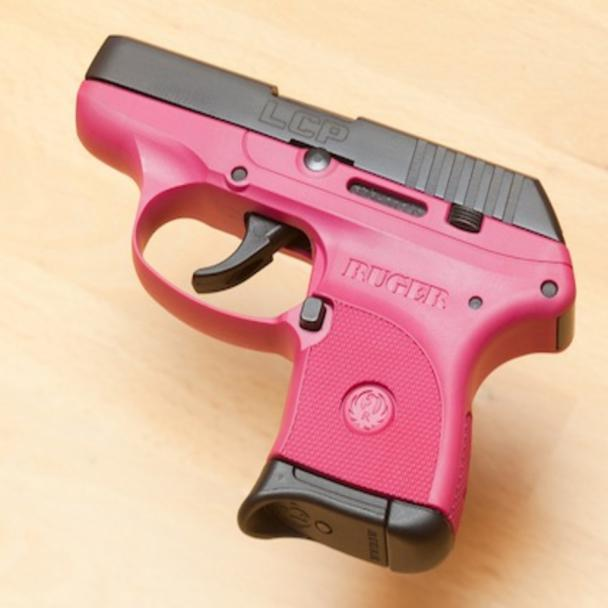Gun: (66, 20, 581, 594)
